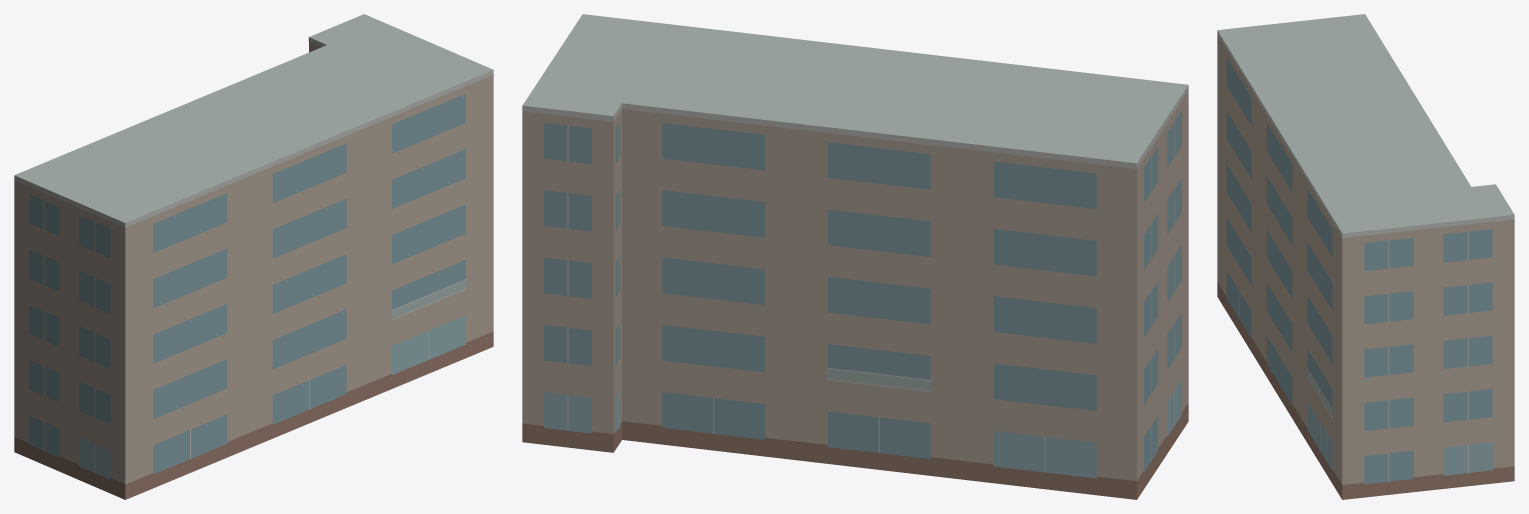
Rendered from survey-upis-32710941.glb.
3 renders of one model, left to right at view 1: azimuth 30°, elevation 25°; view 2: azimuth 150°, elevation 25°; view 3: azimuth 270°, elevation 25°, orthographic. The views are drawn at different scales.
Parts seen in each view (by area): view 1: survey-upis-32710941.tmp; view 2: survey-upis-32710941.tmp; view 3: survey-upis-32710941.tmp.
Part boxes in pixels (x1,y1,x2,y2): survey-upis-32710941.tmp: (14, 14, 493, 499); survey-upis-32710941.tmp: (522, 14, 1188, 499); survey-upis-32710941.tmp: (1217, 14, 1514, 499).
Size of the model in its own units: 25.47 by 14.4 by 14.58.
